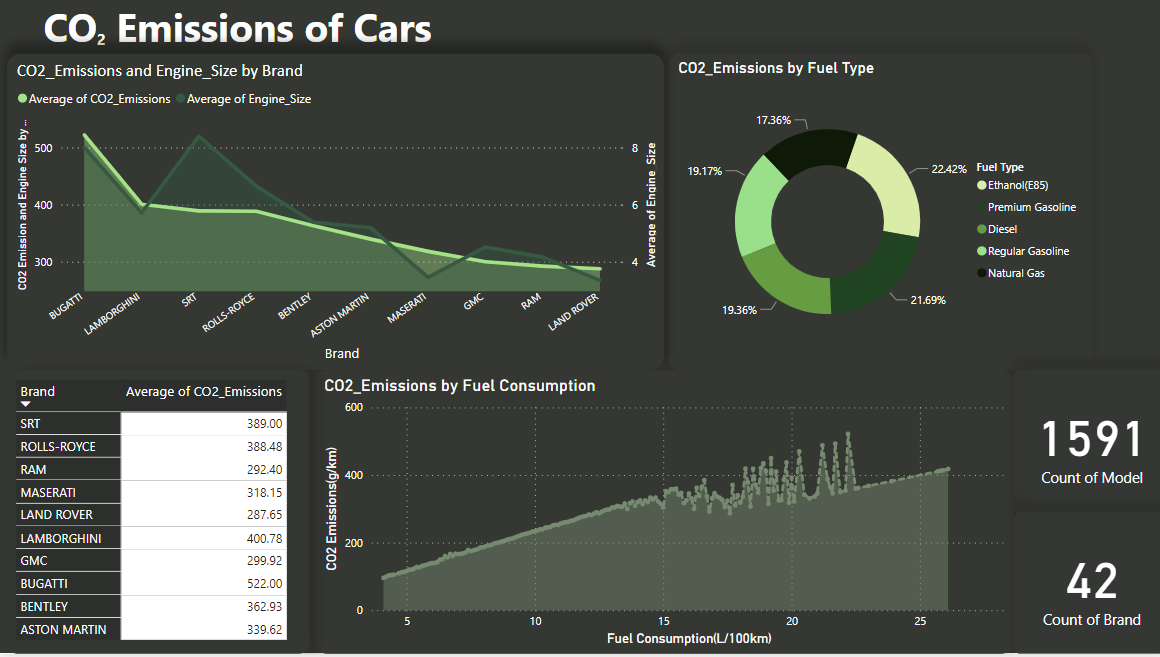

This screenshot's page, from the dashboard's own definition file:
{"tool":"powerbi","page":{"name":"Page 1","canvas":[1280,720],"ordinal":0},"visuals":[{"type":"textbox","box":[9.6,0,716.9,74.2],"z":0},{"type":"areaChart","title":"  CO2_Emissions by Fuel Consumption","fields":{"Category":["co2_emission.Fuel_Consumption_Comb"],"Y":["Avg(co2_emission.CO2_Emissions)"]},"box":[346,410.3,765.8,310.4],"z":1000},{"type":"donutChart","title":"CO2_Emissions by Fuel Type","fields":{"Category":["co2_emission.Fuel_Type"],"Y":["Avg(co2_emission.CO2_Emissions)"]},"box":[734.4,64.3,462.2,346],"z":2000},{"type":"areaChart","title":" CO2_Emissions and Engine_Size by Brand","fields":{"Category":["co2_emission.Brand"],"Y2":["Avg(co2_emission.Engine_Size)"],"Y":["Avg(co2_emission.CO2_Emissions)"]},"box":[9.6,64.3,719.3,346],"z":3000},{"type":"pivotTable","fields":{"Values":["Avg(co2_emission.CO2_Emissions)"],"Rows":["co2_emission.Brand"]},"box":[9.6,410.3,330.9,310.4],"z":4000},{"type":"card","fields":{"Values":["Count(co2_emission.Model)"]},"box":[1111.8,410.3,168.2,155.9],"z":5000},{"type":"card","fields":{"Values":["Count(co2_emission.Brand)"]},"box":[1111.8,566.2,168.2,154.5],"z":5001}]}

Visuals, with their boxes in screenshot pixels (x1, y1, x2, y2), scaled from the page's 1280x720 canvas onto the 1160x657 screenshot:
textbox: x1=9 y1=0 x2=658 y2=68
"  CO2_Emissions by Fuel Consumption" areaChart: x1=314 y1=374 x2=1008 y2=656
"CO2_Emissions by Fuel Type" donutChart: x1=666 y1=59 x2=1084 y2=374
" CO2_Emissions and Engine_Size by Brand" areaChart: x1=9 y1=59 x2=661 y2=374
pivotTable - Avg(co2_emission.CO2_Emissions) x co2_emission.Brand: x1=9 y1=374 x2=309 y2=656
card - Count(co2_emission.Model): x1=1008 y1=374 x2=1159 y2=517
card - Count(co2_emission.Brand): x1=1008 y1=517 x2=1159 y2=656
